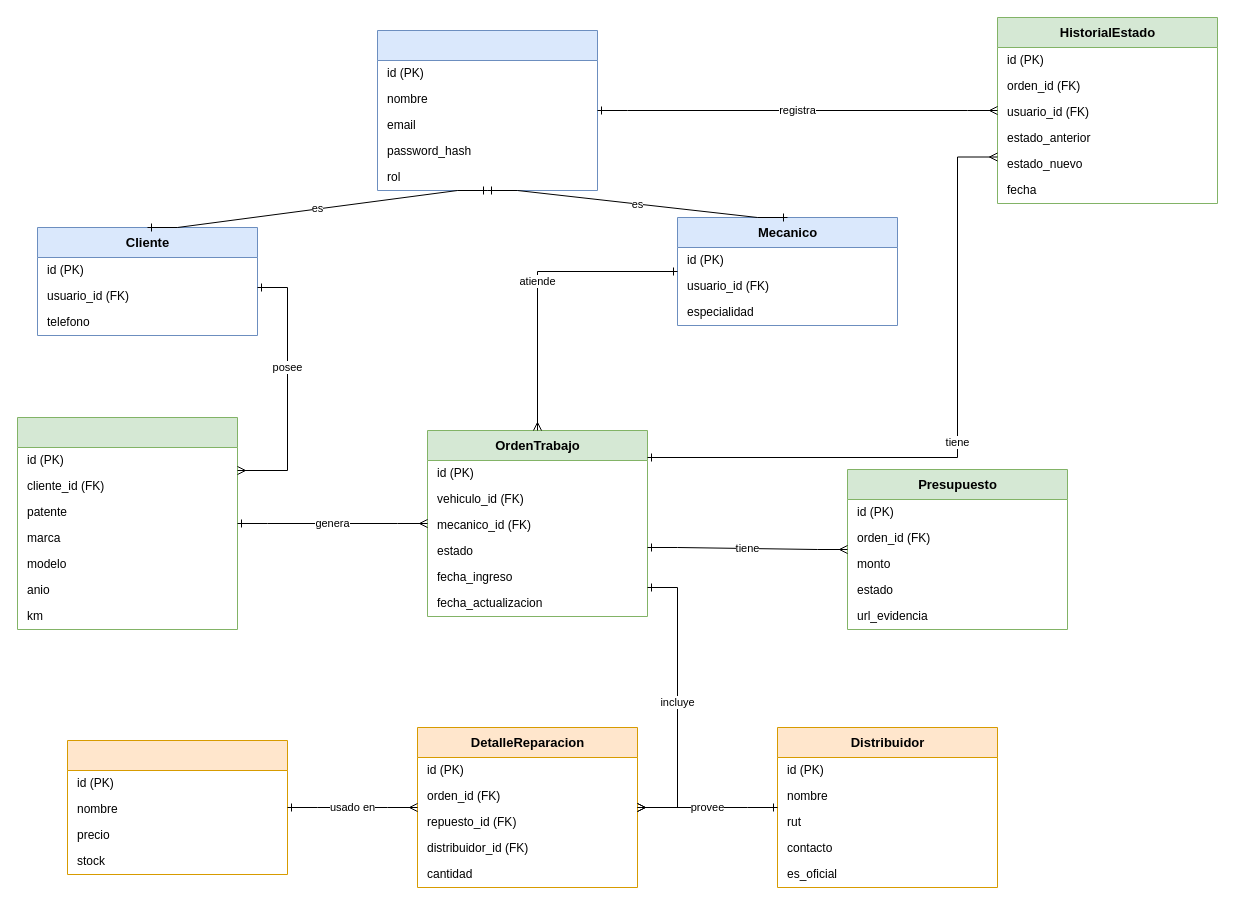
Image size: 1235x905. Some labels were removed from this diagram. The box of each missing label's shape, as (x1, y1, x2, y2) in pixels:
Repuesto: (66, 740, 288, 874)
Usuario: (376, 30, 598, 190)
Vehiculo: (16, 416, 238, 630)
